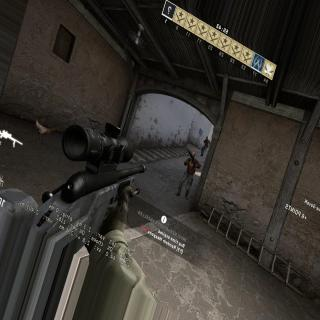T-Body: (181, 150, 199, 197), (201, 136, 208, 155)
T-Head: (190, 151, 196, 160), (206, 136, 208, 139)
